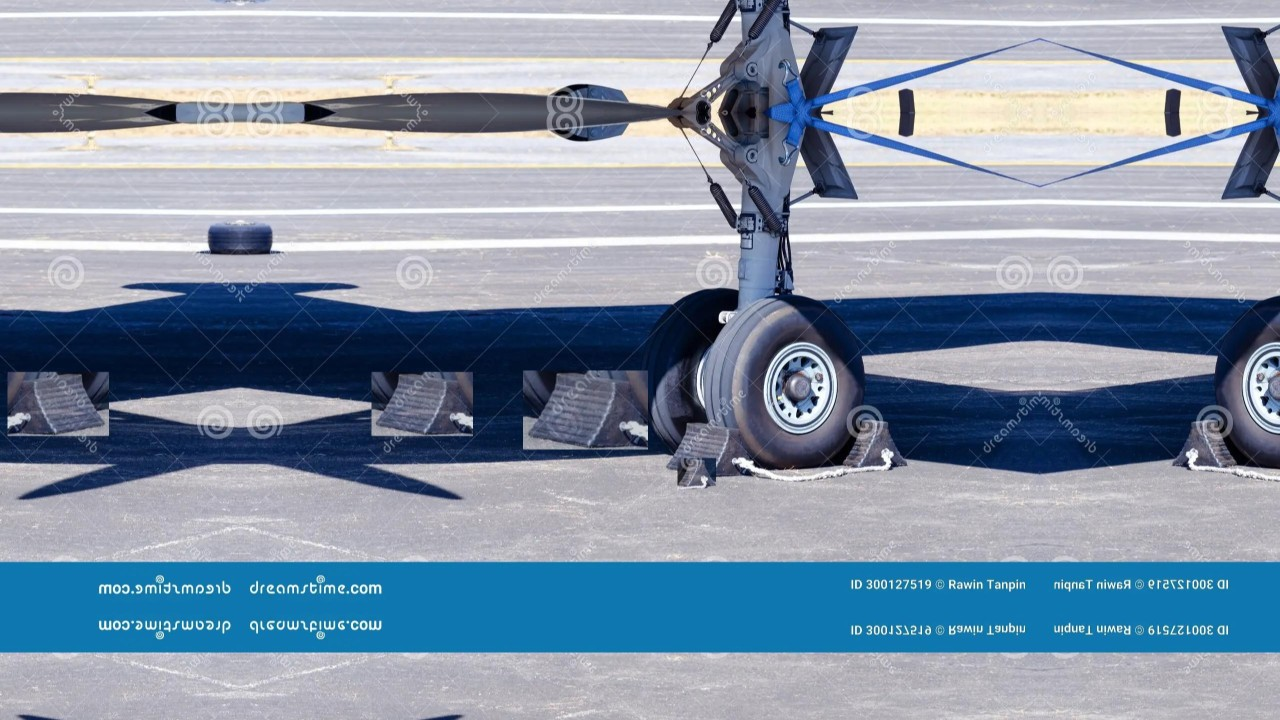chock: (523, 371, 648, 450), (7, 373, 108, 437), (372, 373, 473, 437), (663, 422, 753, 479), (841, 418, 908, 473), (1172, 418, 1239, 473), (678, 459, 716, 490)
wheel: (702, 295, 864, 468), (638, 287, 743, 456), (1216, 295, 1280, 468), (207, 222, 240, 255), (240, 222, 273, 255), (207, 0, 240, 4), (240, 0, 273, 4)
